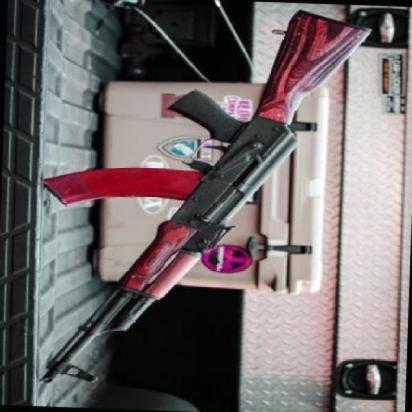Gun: (42, 14, 372, 386)
